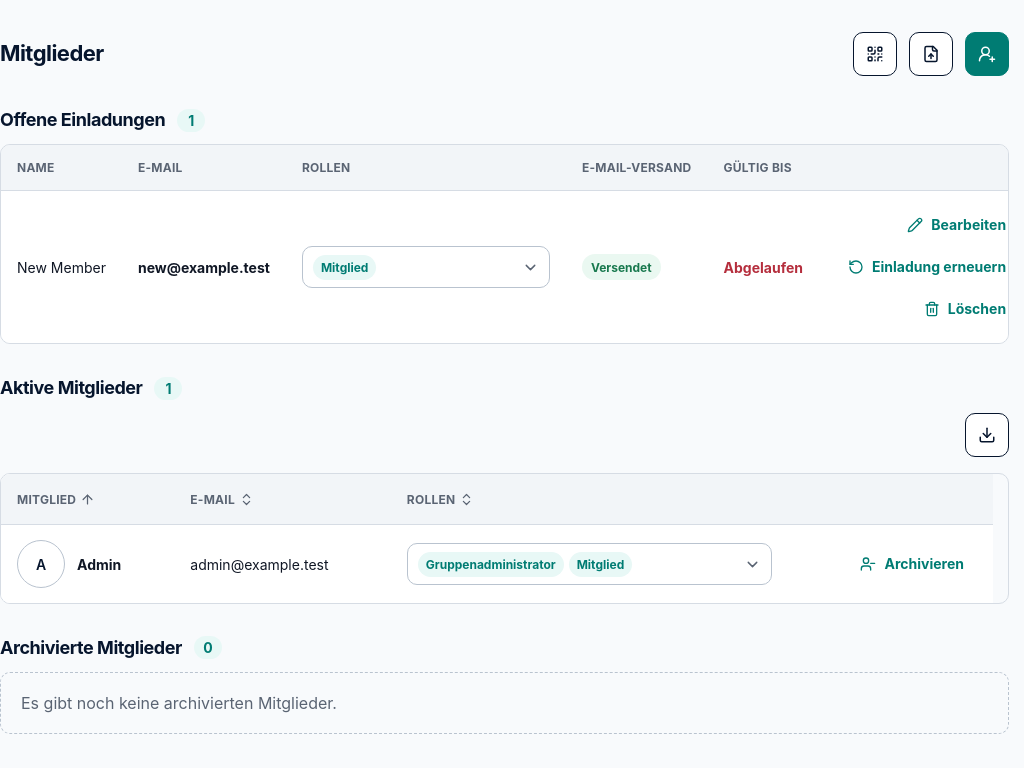
MembersPanel invitations › loads public join-link state only after an administrator opens its dialog
Click the button named "Beitrittslink". click: coordinates (875, 54)
box: [853,32,897,76]
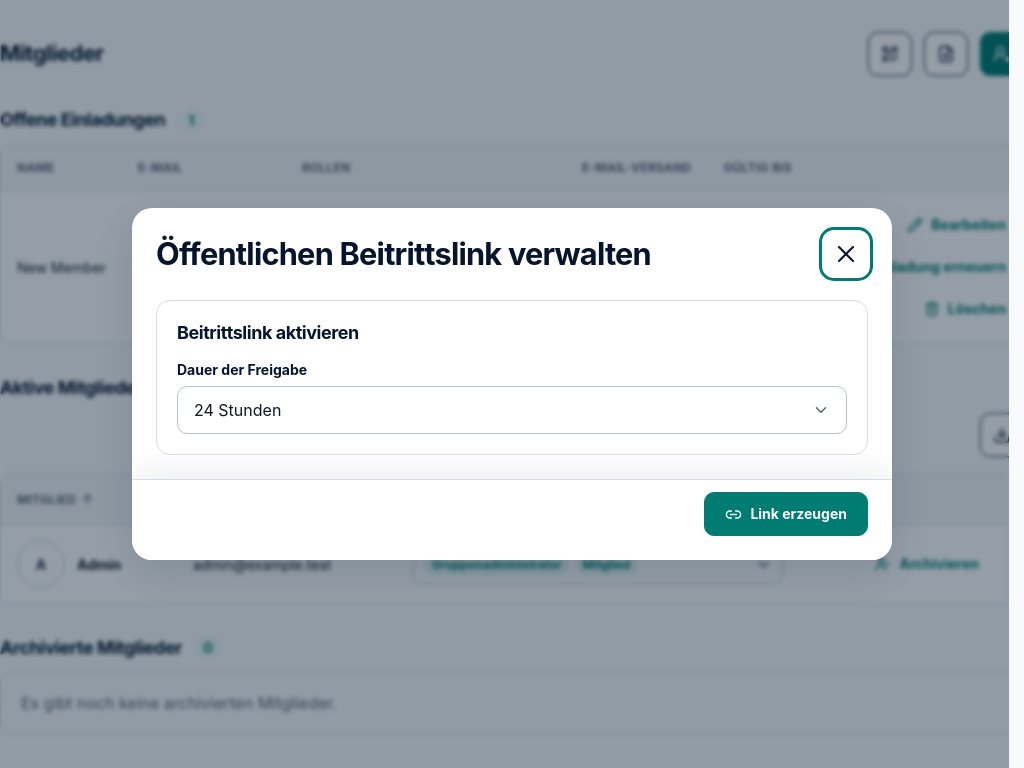
Expected: the dialog "Öffentlichen Beitrittslink verwalten" is shown, [132,208,892,560]
